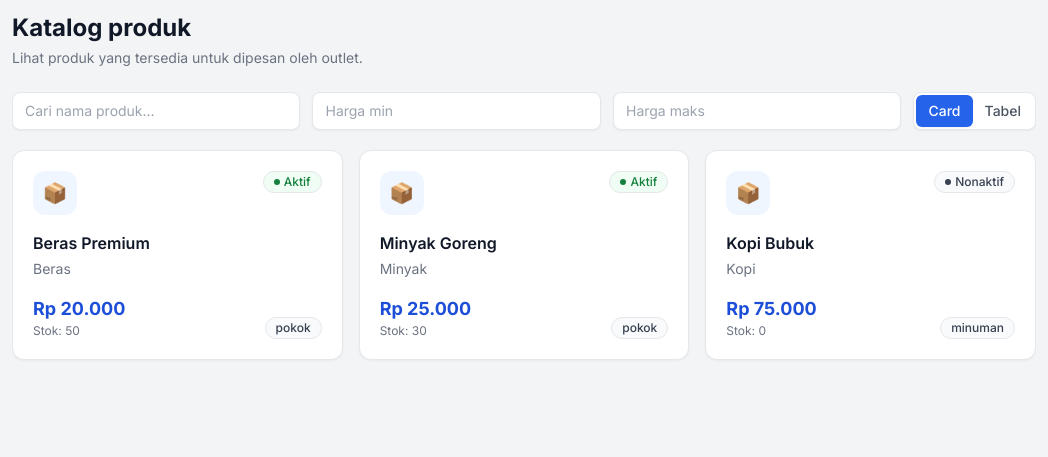
ProductCatalog — view mode + product filters › shows a filtered-empty state when no product matches
Expected: the heading "Beras Premium" is shown, [33,233,150,253]
Type "zzz" into the field named "Cari produk".
click(156, 111); type("zzz")  # box [12,92,300,130]
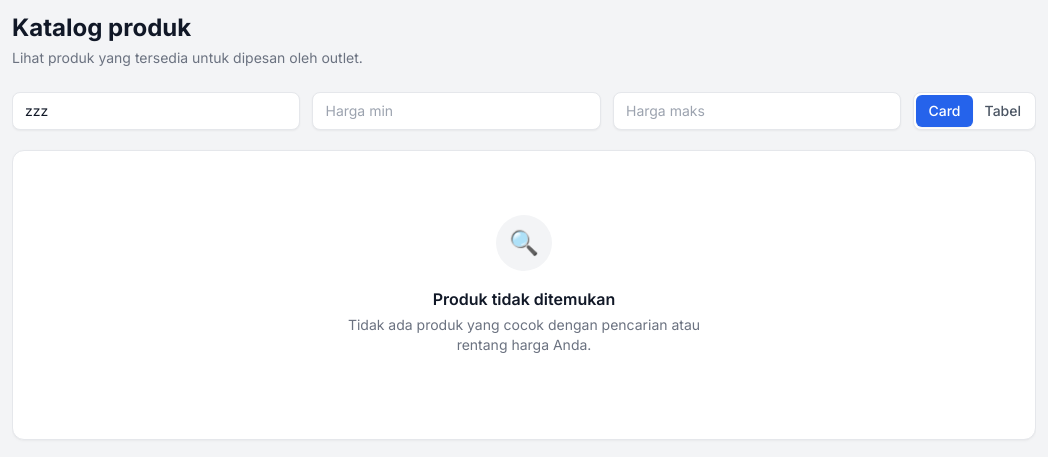
Now the heading "Produk tidak ditemukan" is shown, box [433,287,615,311]
